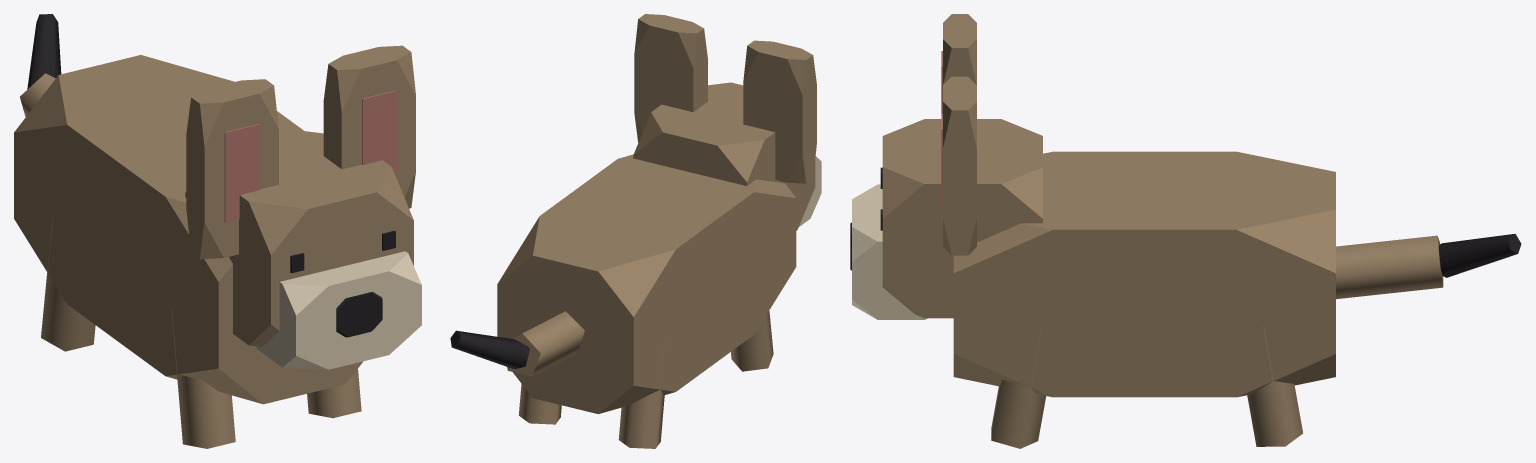
The model's file is original-fox.glb.
3 renders of one model, left to right at view 1: azimuth 30°, elevation 25°; view 2: azimuth 150°, elevation 25°; view 3: azimuth 270°, elevation 25°, orthographic. The views are drawn at different scales.
Visible parts, largest first — view 1: fox; view 2: fox; view 3: fox.
Boxes of the visible parts, x1,y1,x2,y2 form: fox: (14, 14, 421, 448); fox: (450, 14, 821, 448); fox: (850, 14, 1521, 448).
Size of the model in its own units: 0.7399 by 1.25 by 2.18.
